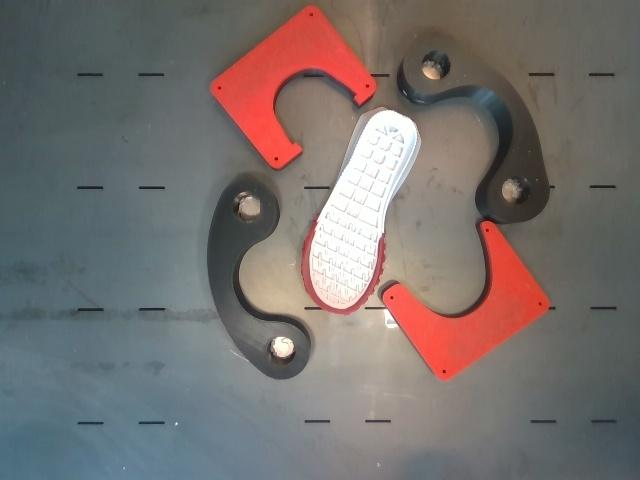shoes: (304, 110, 417, 313)
